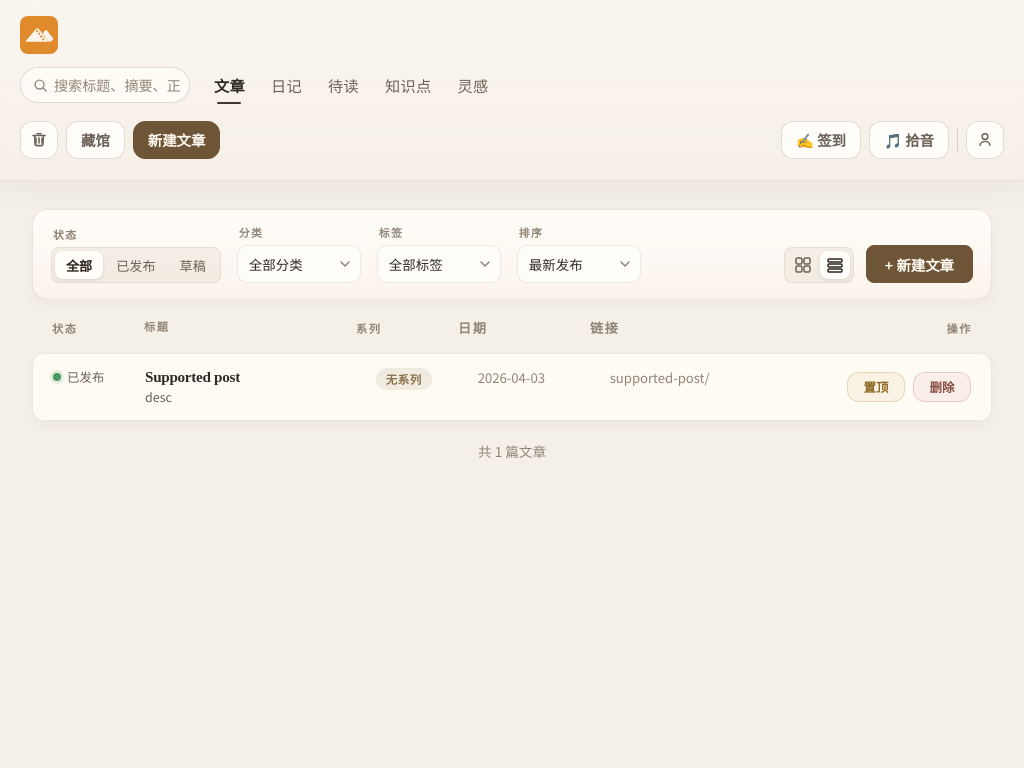
Test: App editor modes › opens supported documents directly in markdown mode
The width and height of the screenshot is (1024, 768).
Expected: the text "Supported post" is shown, [145,368,240,386]
Click the button "已发布 Supported post desc 无系列 2026-04-03 supported-post/".
click(86, 377)  # box [53,368,831,406]
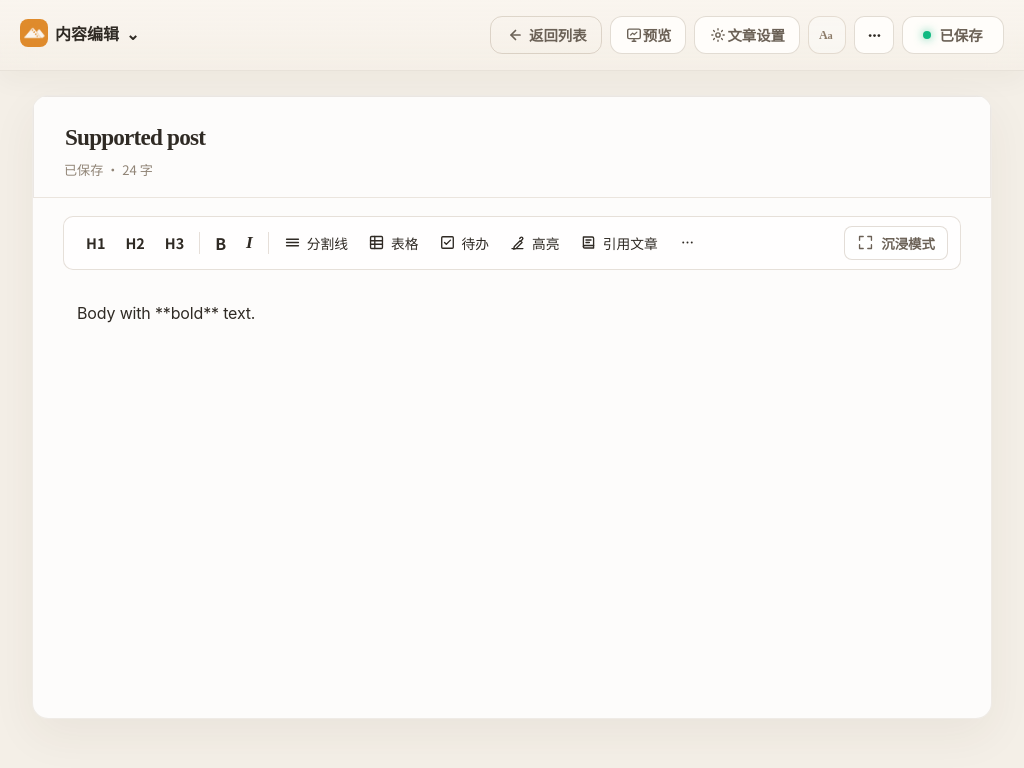
Now the text box named "Markdown 编辑器" is shown, box [63,270,961,688]
